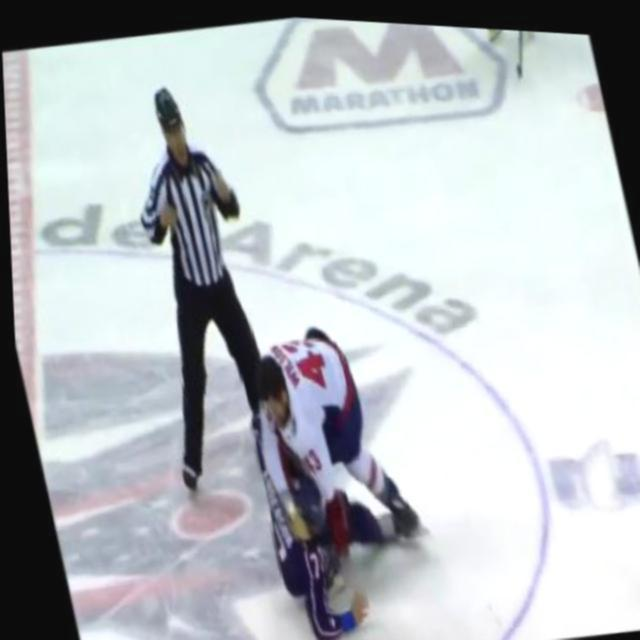fight: (219, 297, 447, 640)
